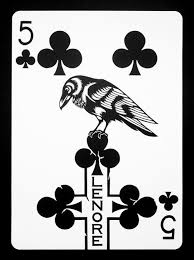five of clubs: (12, 11, 183, 249)
